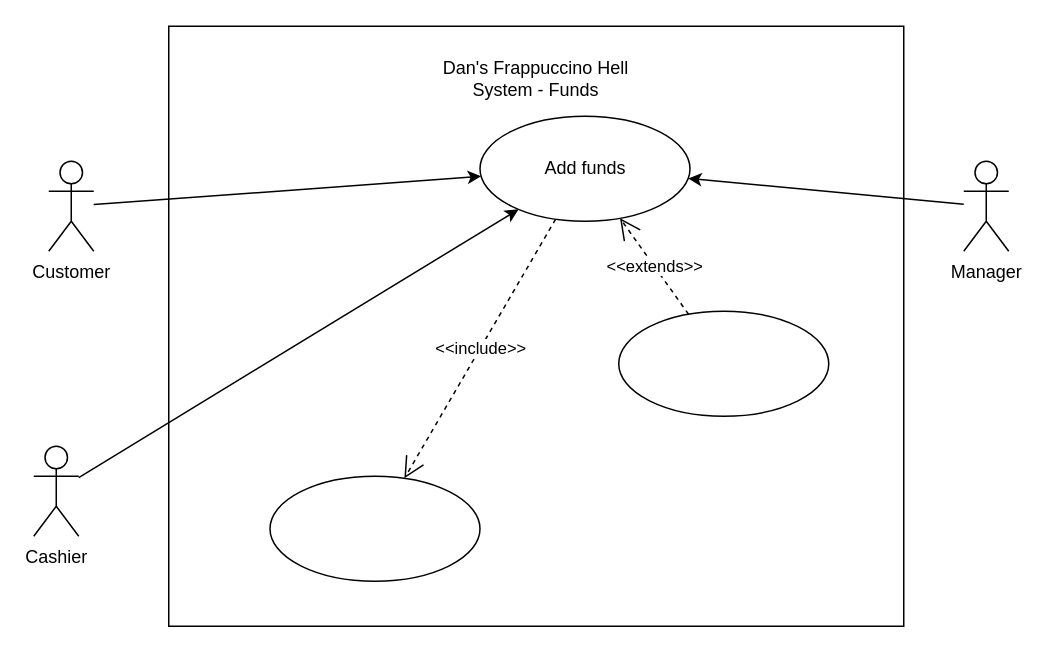
The diagram is 1047 pixels wide and 653 high, and some of its shapes have lost their labels. The centre of each missing label's shape, as x and y in pixels:
"Check Balance" belongs at [723,363].
"Log in" belongs at [374,528].
